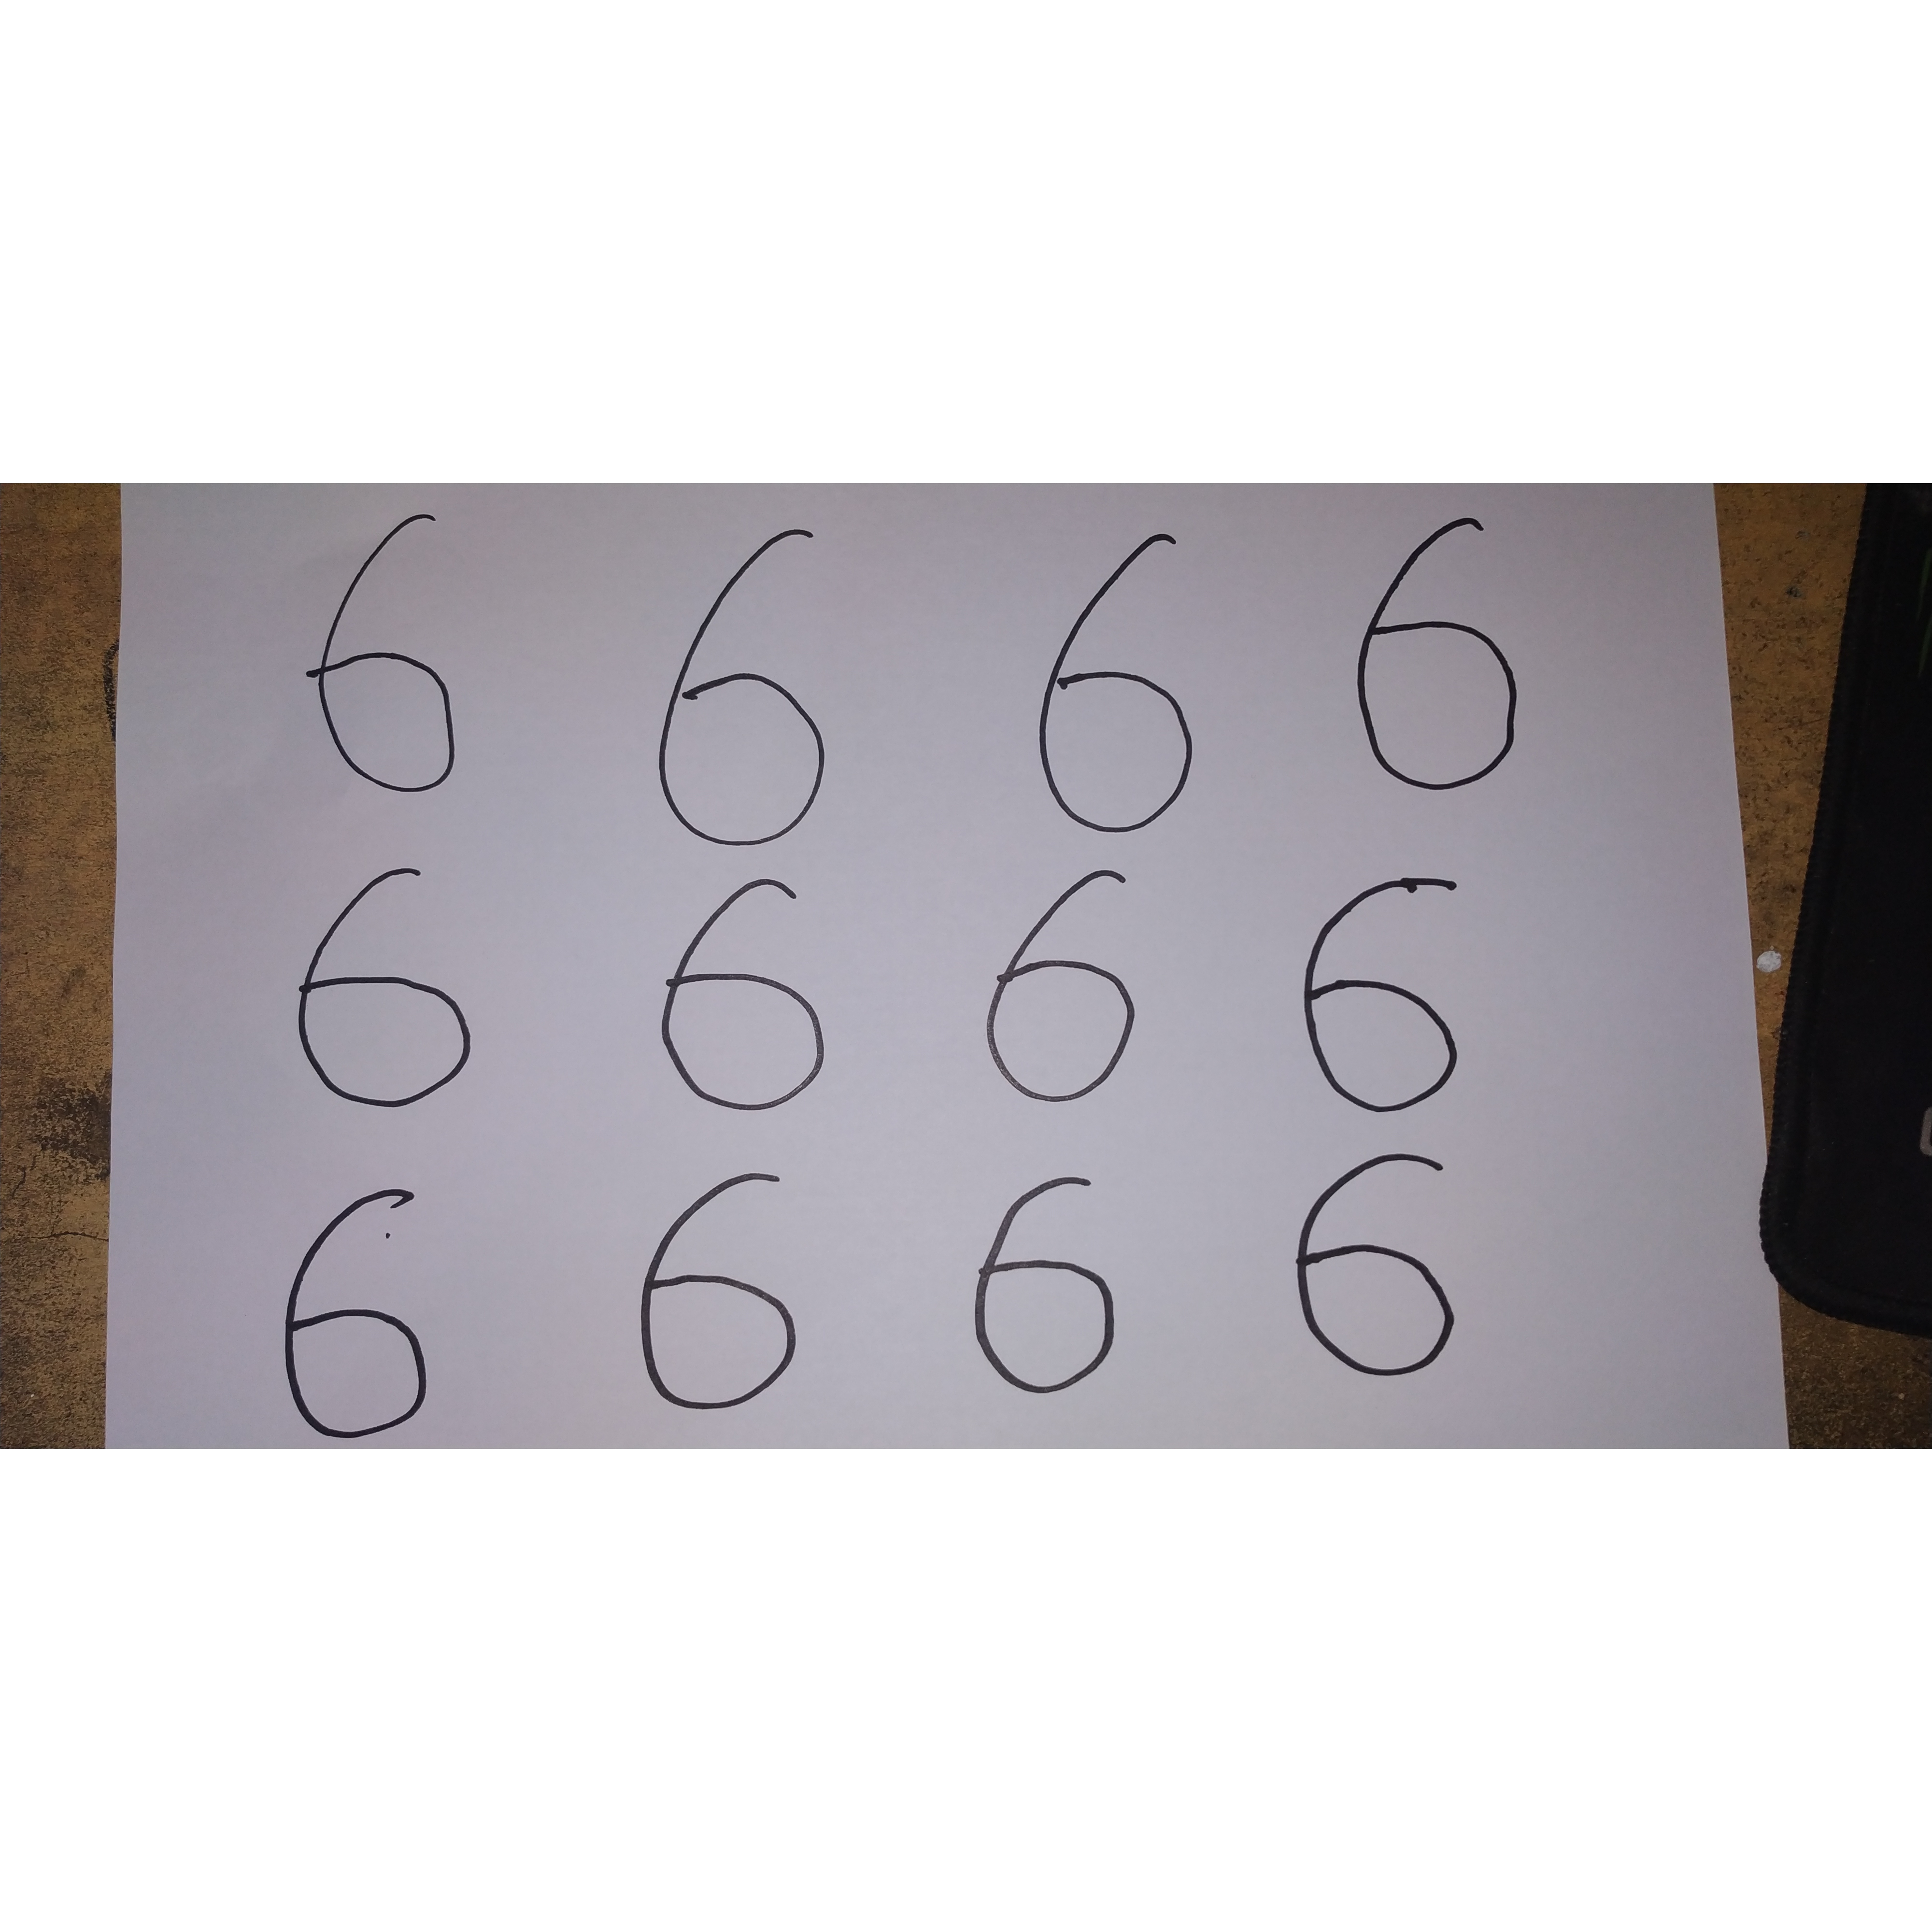num6: (635, 491, 845, 863), (255, 854, 530, 1134), (1030, 512, 1225, 857), (1341, 512, 1569, 804), (297, 497, 497, 806), (1267, 1136, 1496, 1401), (618, 1155, 832, 1424), (1286, 859, 1492, 1128), (261, 1174, 467, 1440), (931, 1161, 1154, 1403), (967, 867, 1166, 1123), (648, 876, 837, 1136)
